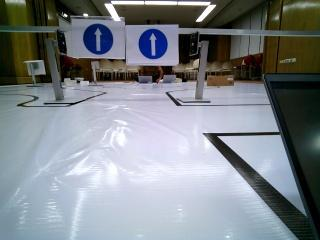straight: (126, 26, 180, 64), (75, 19, 122, 56)
